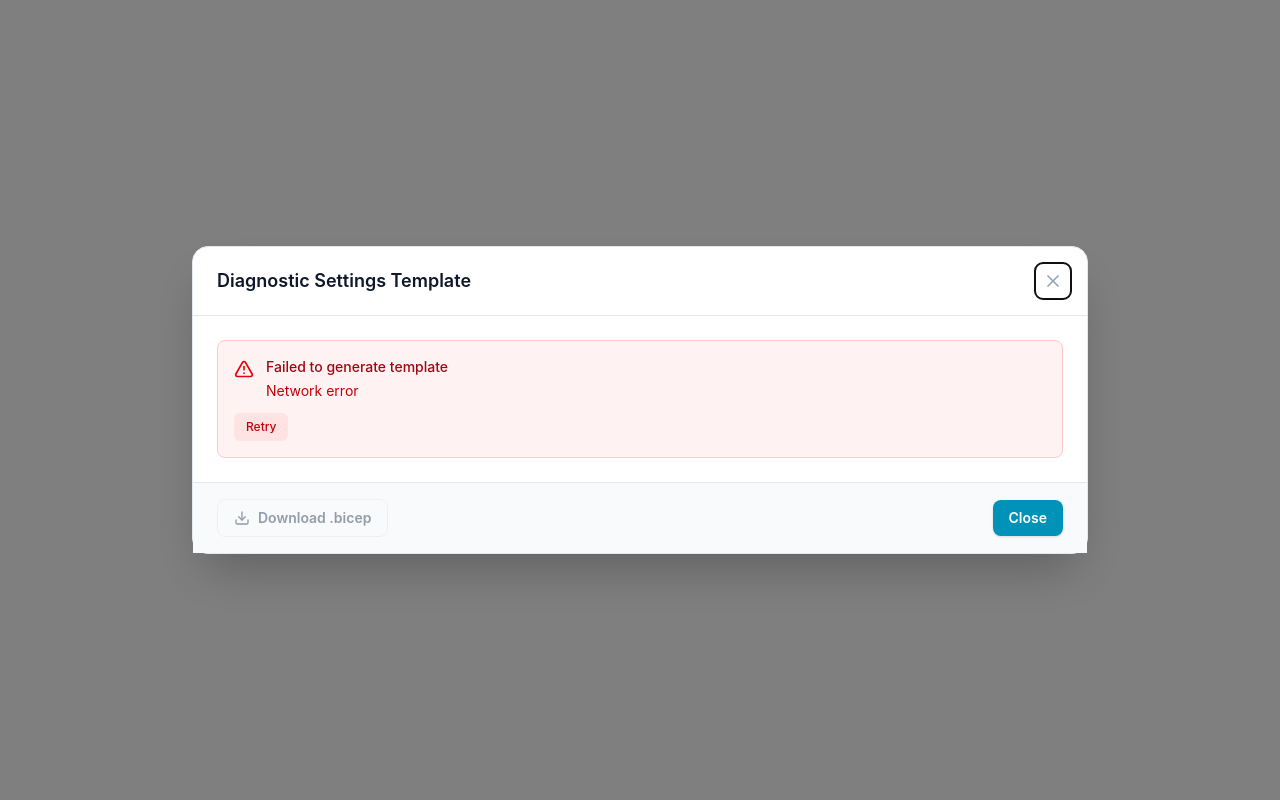
BicepTemplateModal › Error State › should retry fetch when retry button clicked
The width and height of the screenshot is (1280, 800).
expect the text "Network error" is shown: met, box [266,382,359,399]
Click the button "Retry": [261, 427] box [234,413,288,441]
(page scrolled)
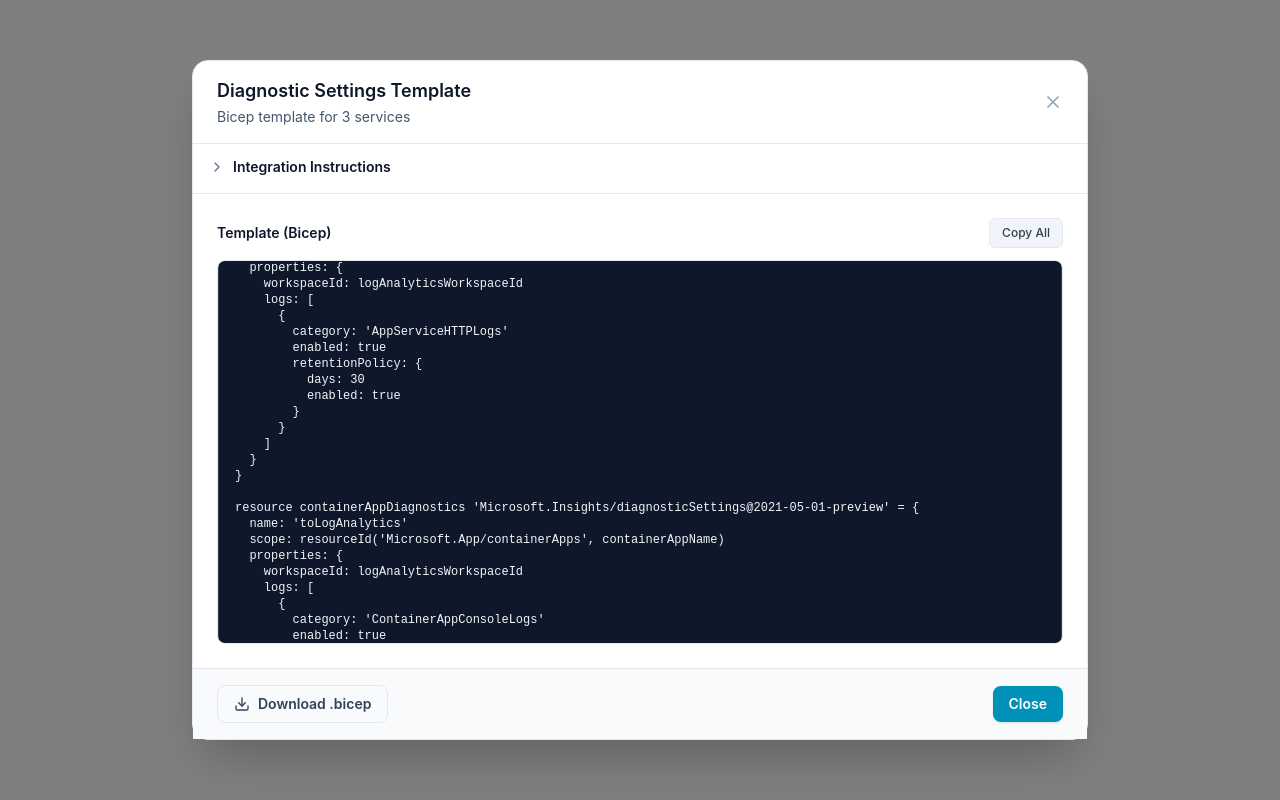
expect the text "Diagnostic Settings Module" is shown: met, box [235,260,919,644]
